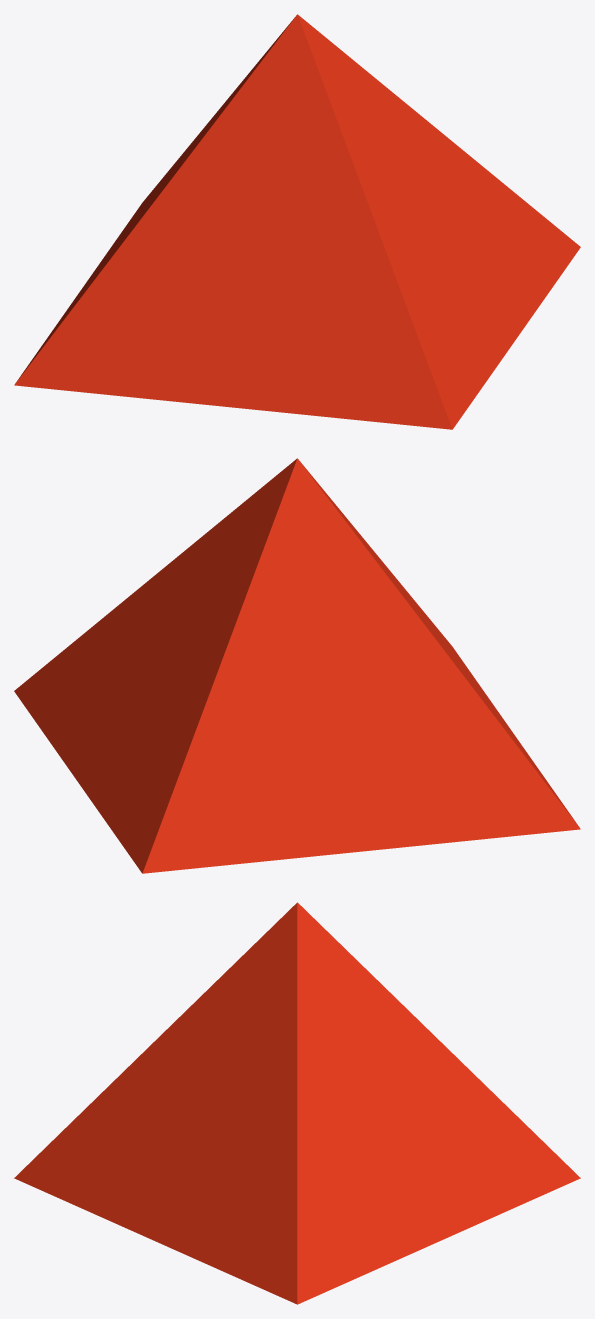
The model's file is TriangleEvil2.fbx.
3 renders of one model, top to bottom at view 1: azimuth 30°, elevation 25°; view 2: azimuth 150°, elevation 25°; view 3: azimuth 270°, elevation 25°, orthographic. The views are drawn at different scales.
Visible parts, largest first — view 1: Cone; view 2: Cone; view 3: Cone.
Part boxes in pixels (<box>): Cone: <box>14,14,580,429</box>; Cone: <box>14,458,580,873</box>; Cone: <box>14,902,580,1304</box>.
Size of the model in its own units: 185 by 94.14 by 175.
